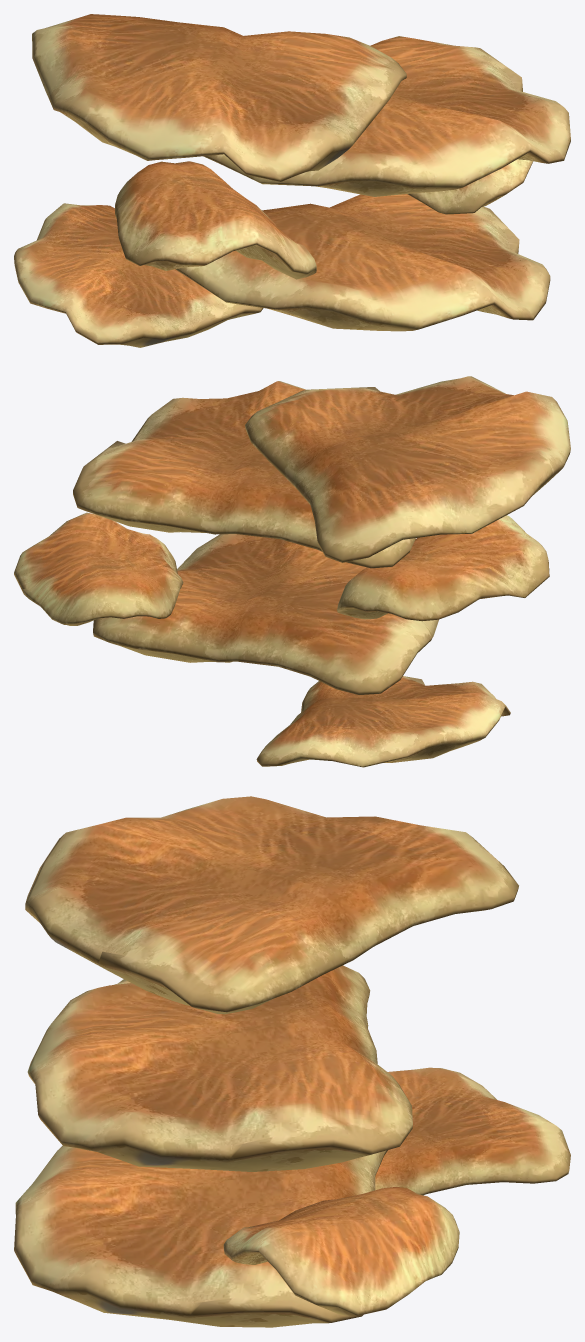
Rendered from MushroomLaetiporus.glb.
The picture shows the model from 3 angles, top to bottom: view 1: azimuth 30°, elevation 25°; view 2: azimuth 150°, elevation 25°; view 3: azimuth 270°, elevation 25°; orthographic projection. The views are drawn at different scales.
Visible parts, largest first — view 1: Mushroom_Laetiporus; view 2: Mushroom_Laetiporus; view 3: Mushroom_Laetiporus.
Part boxes in pixels (x1,y1,x2,y2): Mushroom_Laetiporus: [14, 14, 570, 347]; Mushroom_Laetiporus: [14, 376, 570, 767]; Mushroom_Laetiporus: [14, 796, 570, 1327].
Bounding box in the file's own units: 1.37 × 0.7669 × 1.1.
1 material, 1 textured.
